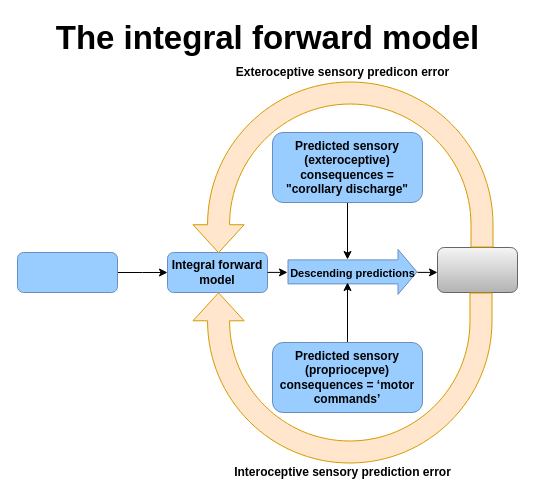
This 535x499 diagram has some shape labels left out. The centre of each missing label's shape, as x and y in pixels:
Intended action: (67,272)
Motor plant responses: (477,269)
